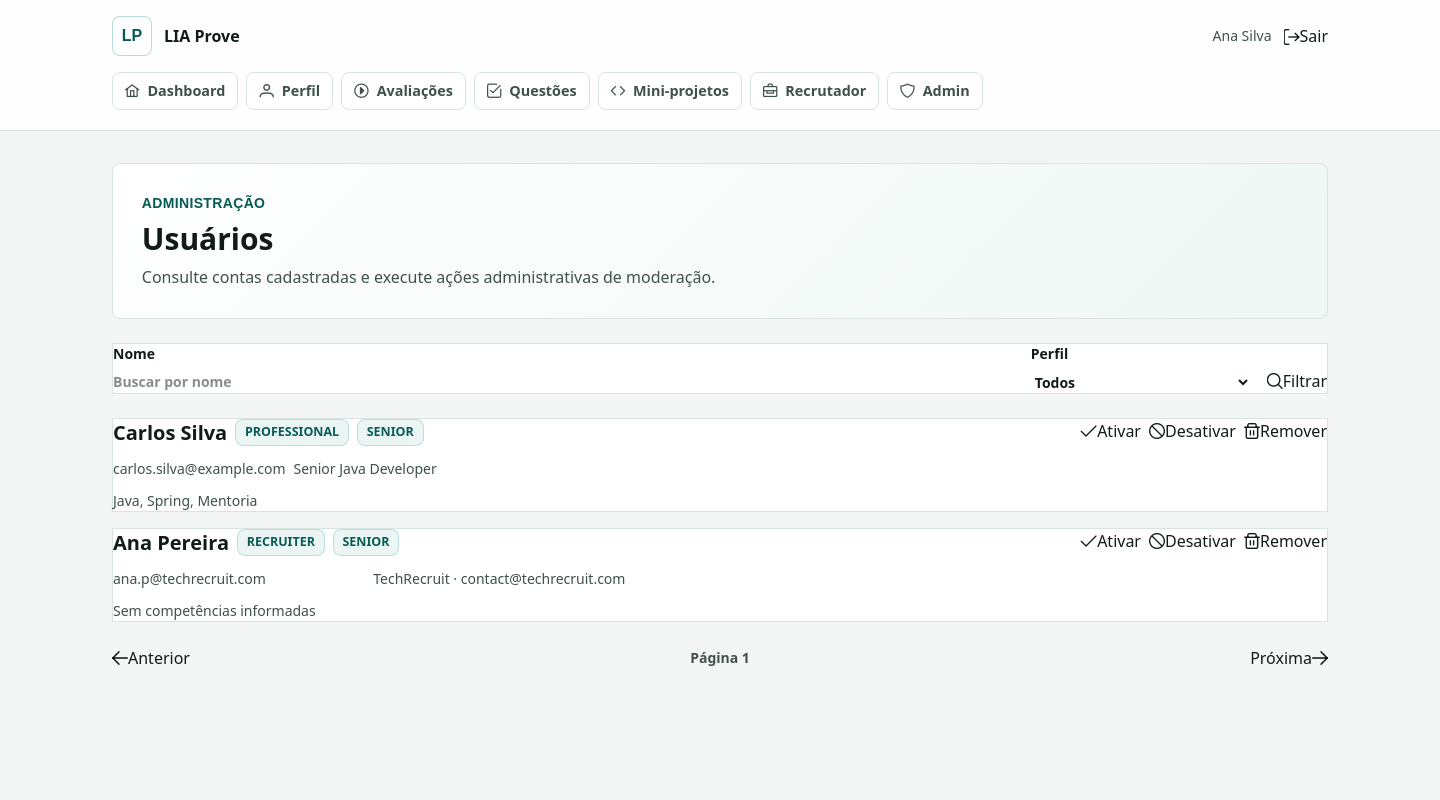
AdminUsersView › activates, deactivates and deletes users then reloads the list
Click the button with test id "activate-user-user-1".
click(1110, 431)  # box x1=1080 y1=419 x2=1141 y2=443
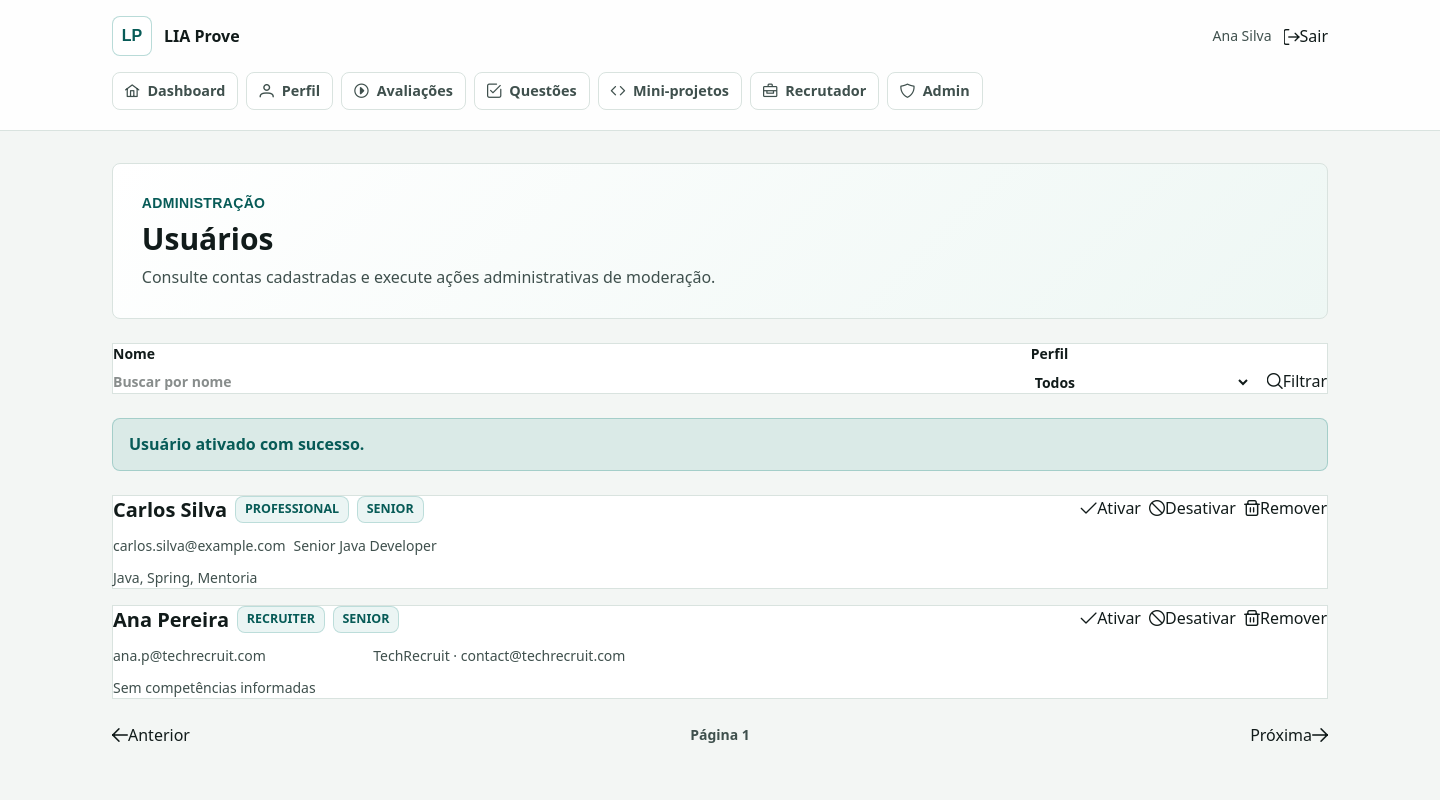
Click the button with test id "deactivate-user-user-1".
click(1192, 508)  # box x1=1149 y1=496 x2=1236 y2=520
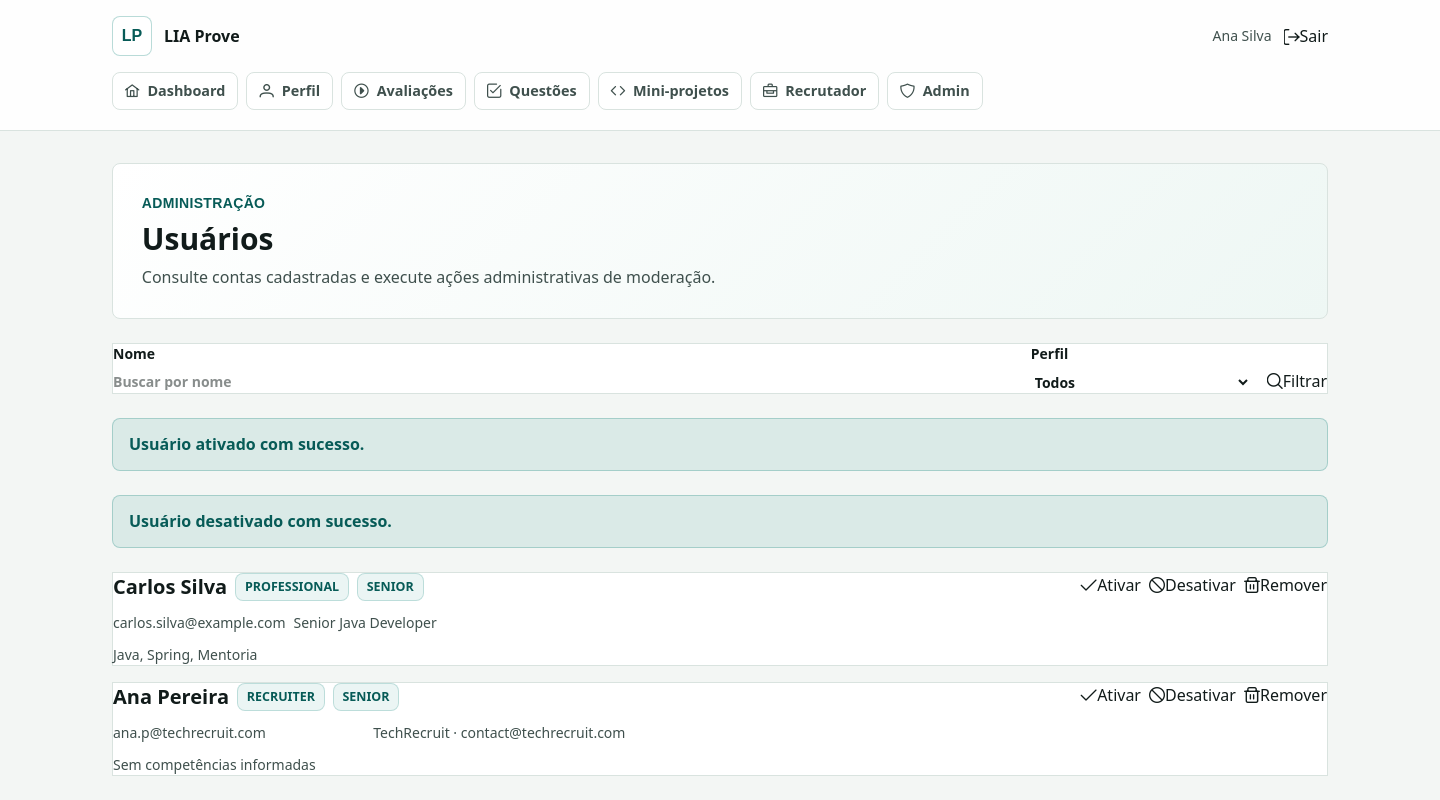
Click the button with test id "delete-user-user-2".
click(1285, 695)  # box x1=1244 y1=683 x2=1327 y2=707
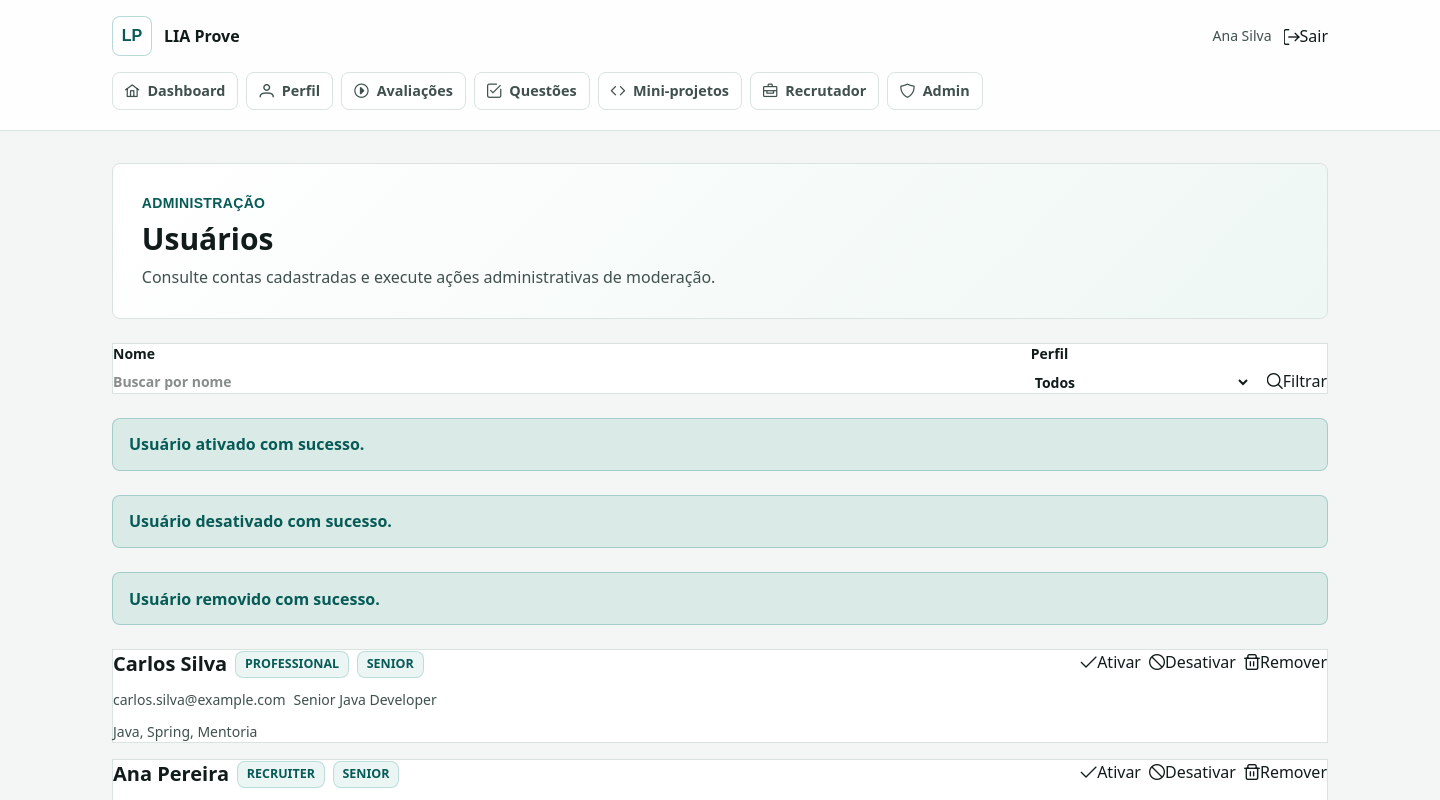
Result: the text "Usuário ativado com sucesso." is shown at x1=112 y1=418 x2=1328 y2=471
Result: the text "Usuário desativado com sucesso." is shown at x1=112 y1=495 x2=1328 y2=548
Result: the text "Usuário removido com sucesso." is shown at x1=112 y1=572 x2=1328 y2=625
